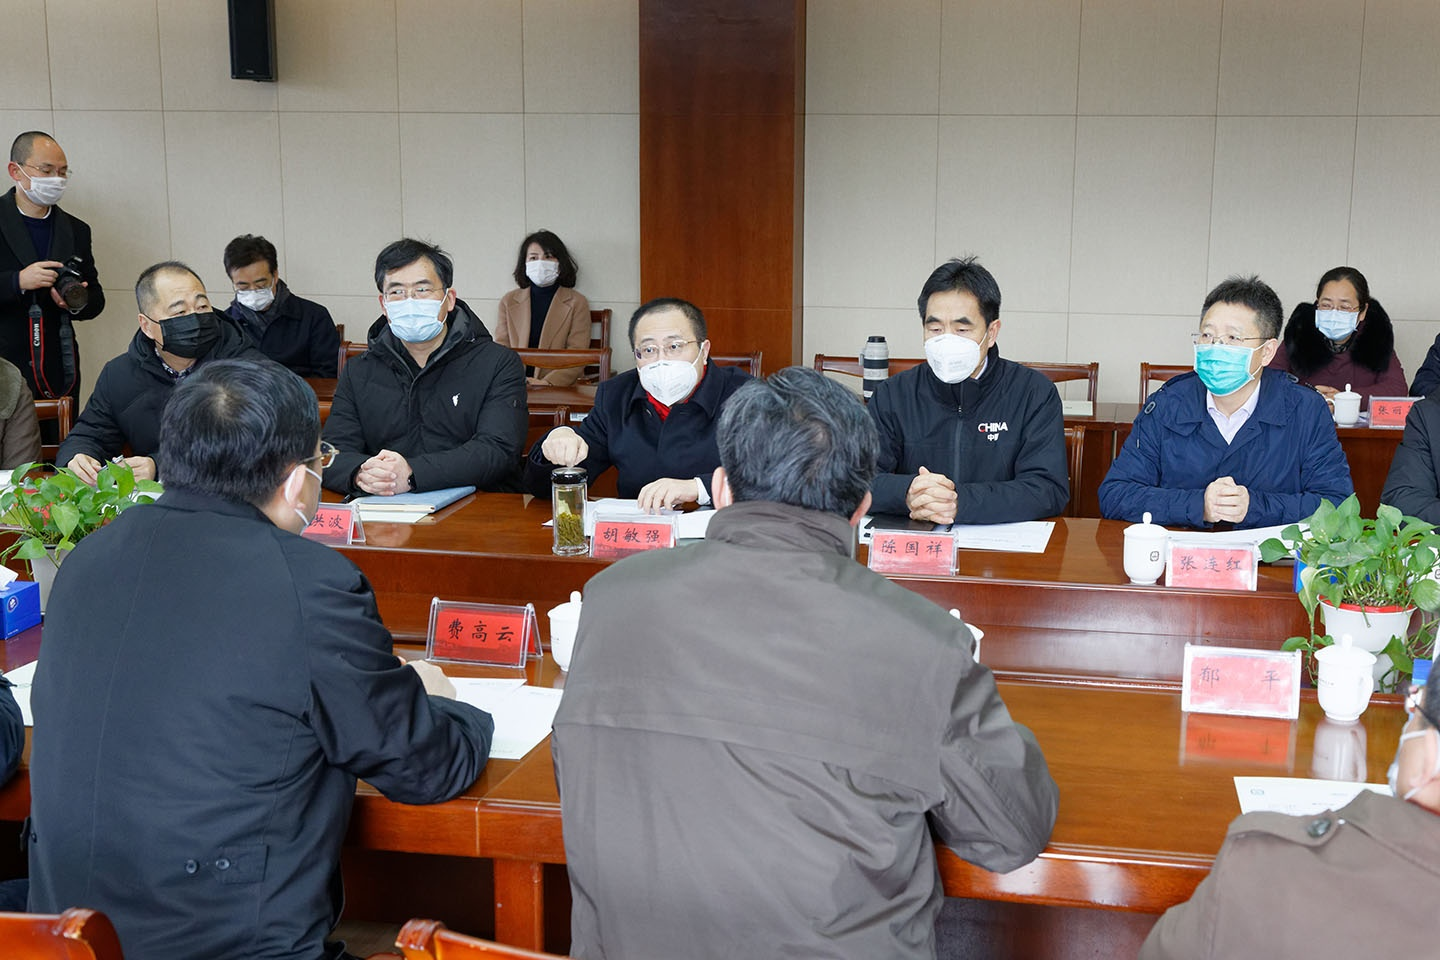correctlyWear: (272, 405, 341, 534), (920, 292, 1002, 382), (1190, 319, 1282, 395), (632, 327, 711, 407), (137, 287, 222, 361), (378, 274, 457, 342), (1310, 265, 1374, 340), (7, 152, 75, 204), (230, 267, 282, 311), (524, 247, 562, 287)
